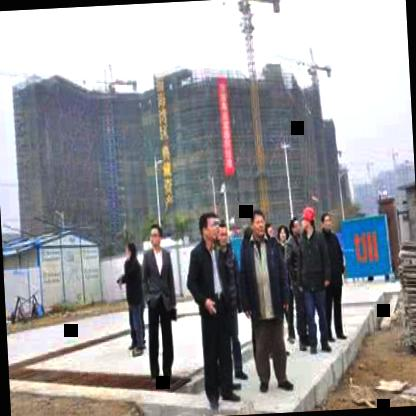head: (196, 209, 223, 251), (249, 205, 268, 238), (144, 223, 165, 250), (286, 214, 301, 242), (320, 210, 334, 238), (276, 223, 289, 247), (122, 238, 136, 260)
helmet: (300, 204, 318, 236)
